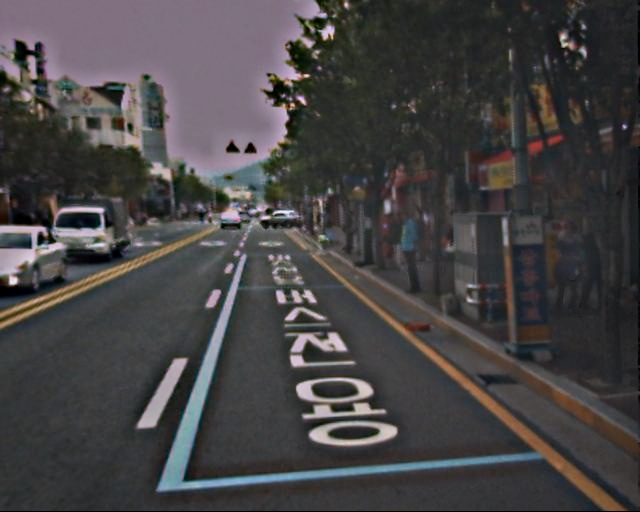person: (542, 217, 585, 314), (392, 208, 428, 293), (383, 209, 407, 268)
